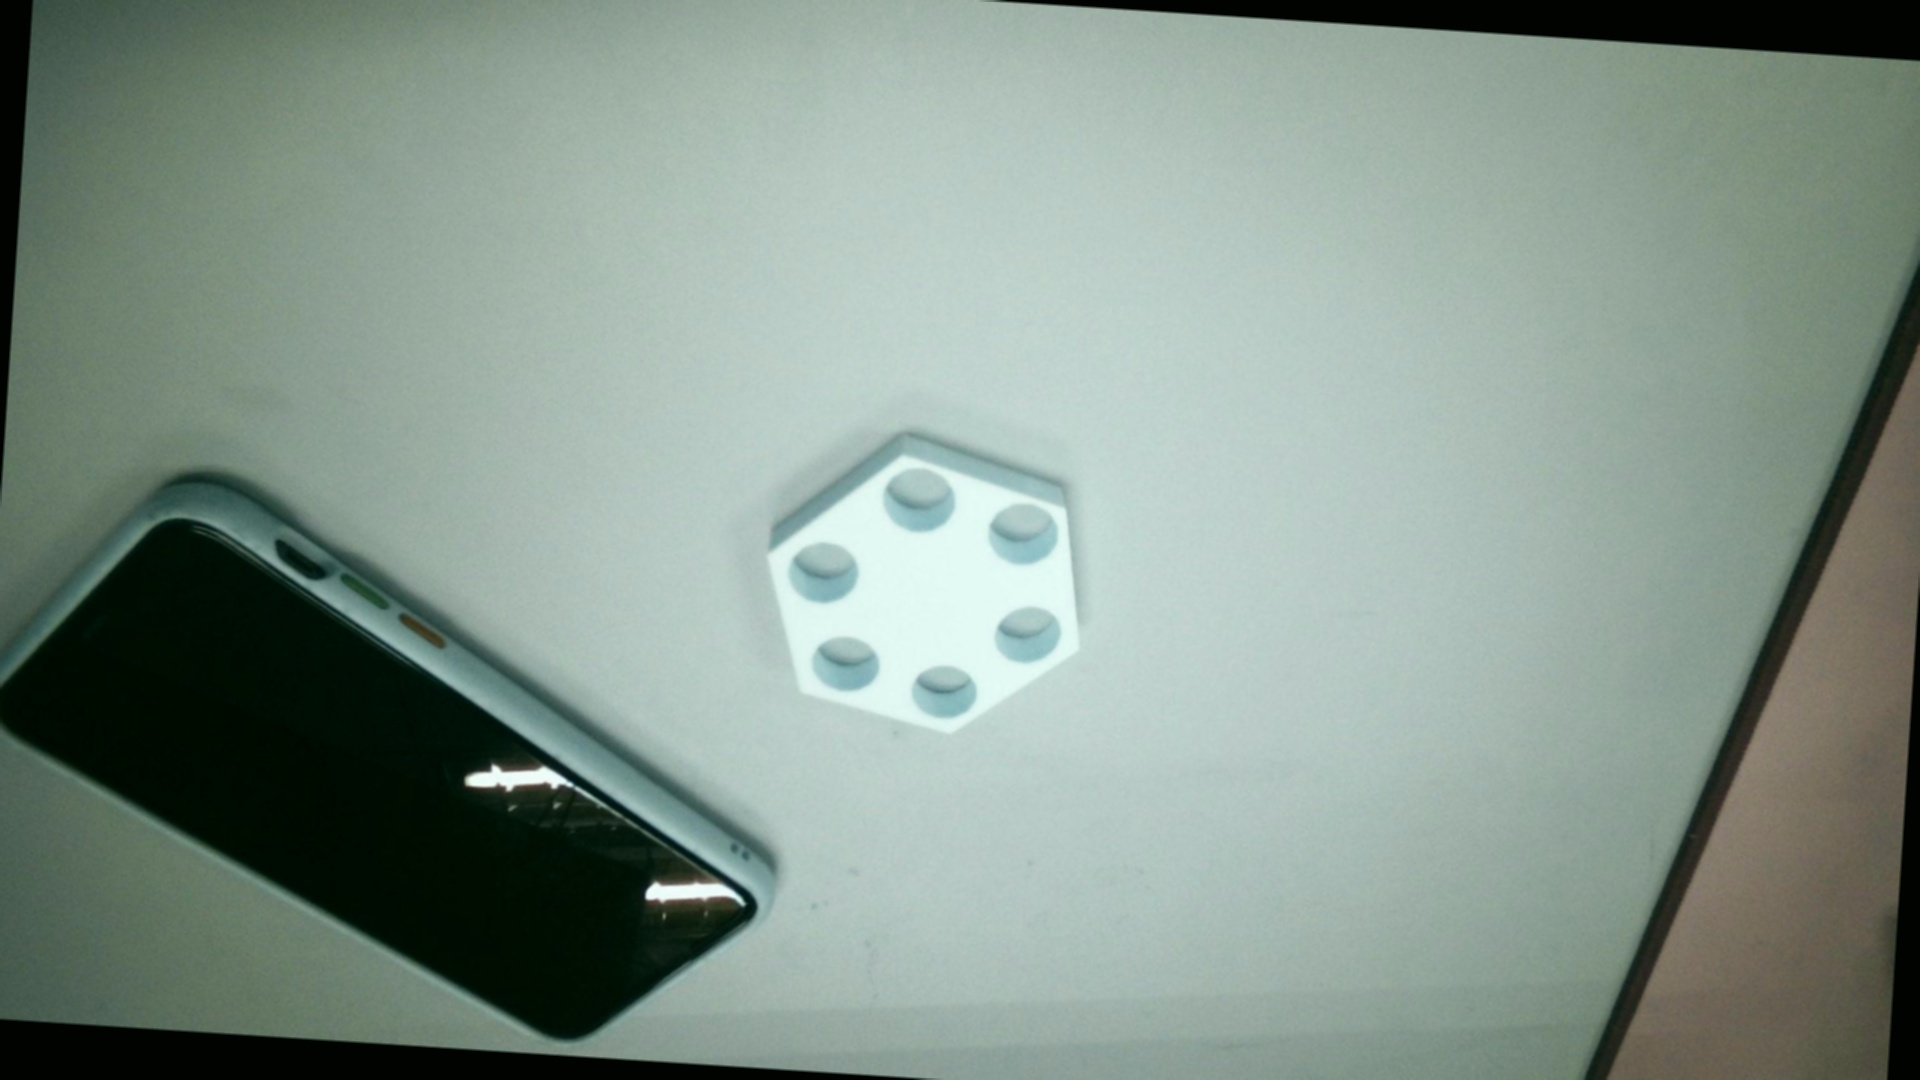hole: (978, 504, 1059, 571), (783, 538, 860, 605), (807, 633, 884, 698), (884, 469, 957, 534), (986, 605, 1062, 669), (914, 663, 975, 727)
obj: (749, 422, 1101, 757)
